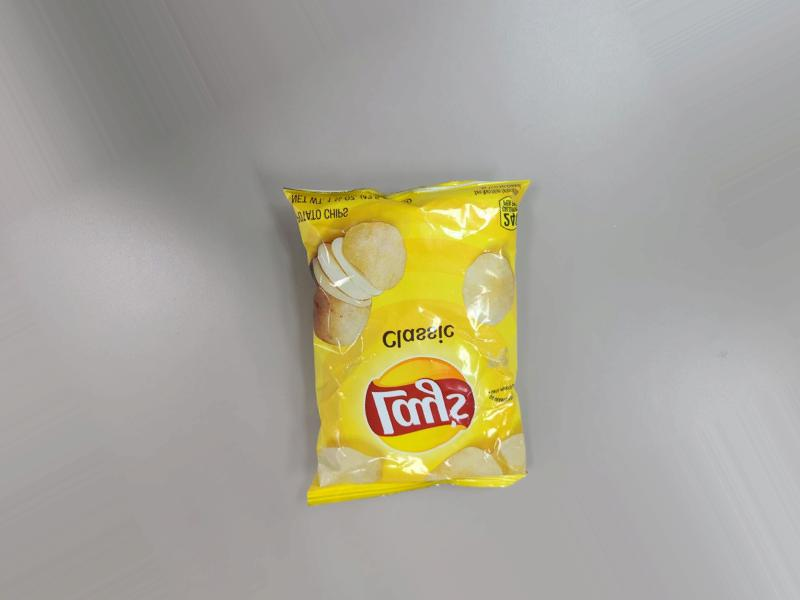lays: (298, 180, 500, 501)
